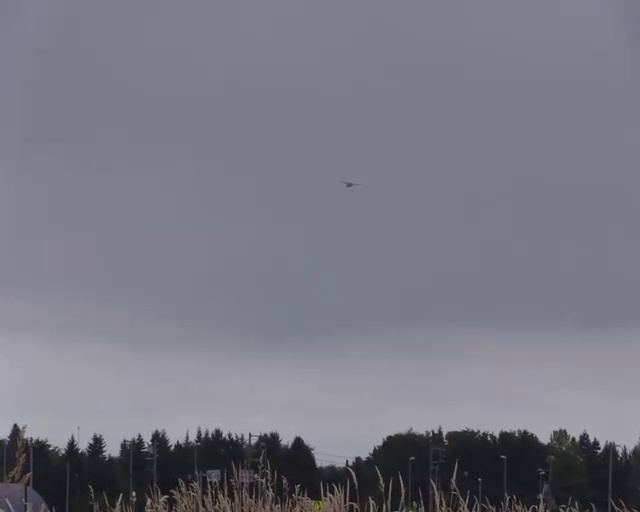AIRPLANE: (341, 180, 360, 189)
